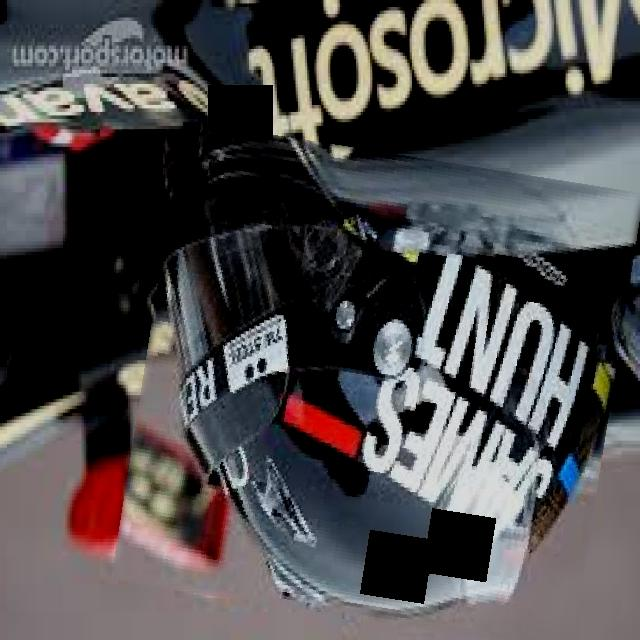helmet: (128, 138, 628, 637)
